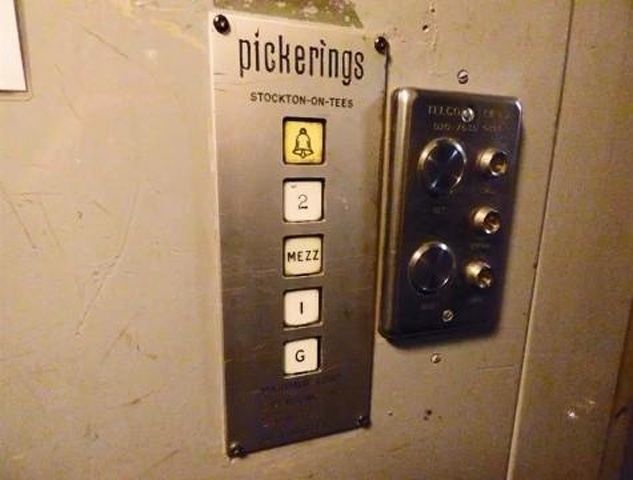1: (281, 283, 324, 330)
2: (282, 176, 326, 223)
G: (278, 335, 323, 380)
alarm: (279, 114, 329, 167)
empty: (405, 240, 458, 297), (417, 136, 467, 196)
indicator: (477, 144, 511, 181), (471, 202, 505, 239), (462, 256, 496, 293)
text_MEZZ: (280, 232, 325, 277)
